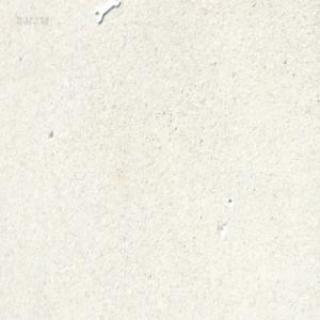Wrenchtrack_idkeyframe: (94, 1, 118, 26)
